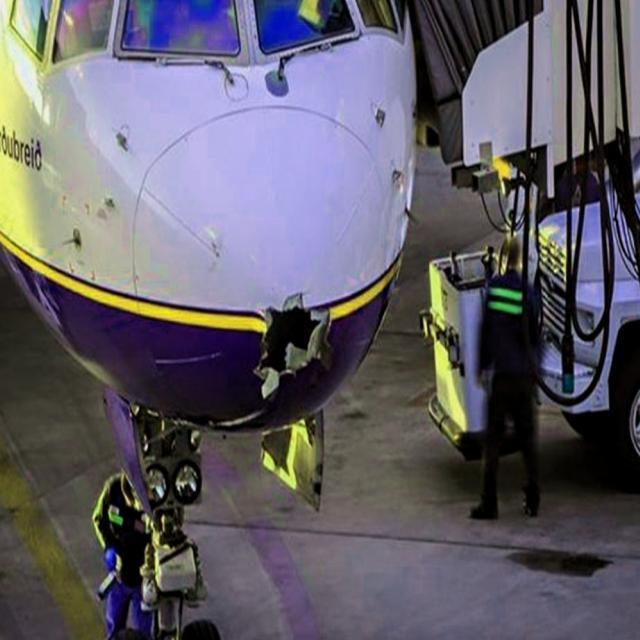crack: (251, 287, 329, 400)
